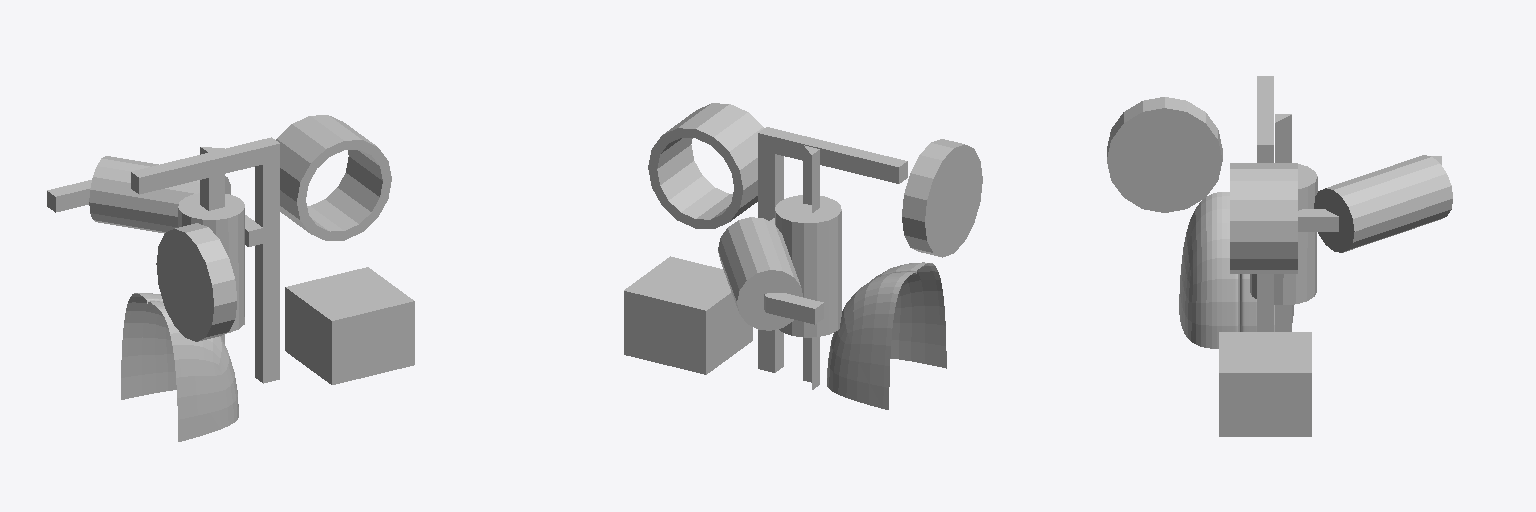
The model's file is frontLeft.obj.
3 renders of one model, left to right at view 1: azimuth 30°, elevation 25°; view 2: azimuth 150°, elevation 25°; view 3: azimuth 270°, elevation 25°, orthographic.
Parts seen in each view (by area): view 1: Cube.010; view 2: Cube.010; view 3: Cube.010.
Part boxes in pixels (left/top/right/bottom): Cube.010: left=47, top=115, right=414, bottom=441; Cube.010: left=624, top=103, right=982, bottom=409; Cube.010: left=1107, top=76, right=1452, bottom=436.
Size of the model in its own units: 0.3412 by 0.3006 by 0.3993.